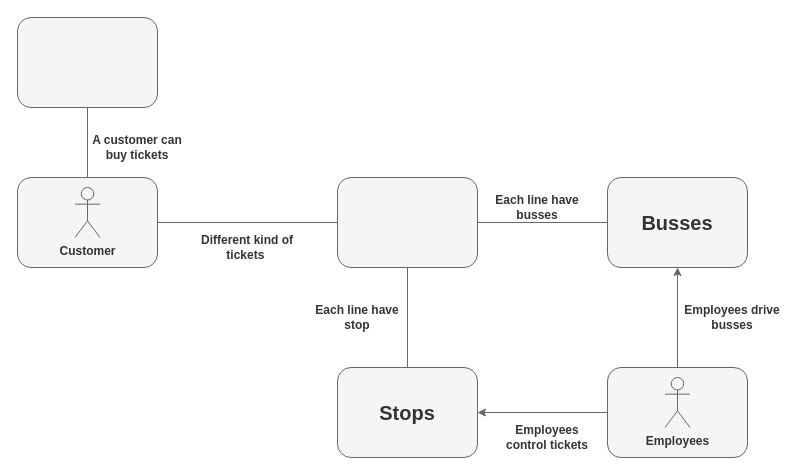
Some shapes in this 800 by 475 pixel diagram are drawn without their labels. Here are the shapes that lost their labels. From the top down, the centre of each, then its label:
At pixel 87 62: "Ticket".
At pixel 407 222: "Line".
